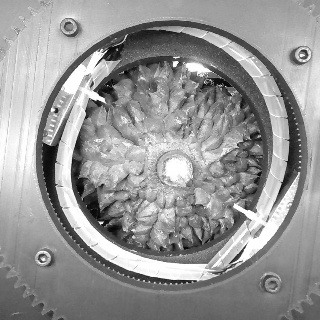base: (146, 141, 197, 185)
end: (162, 156, 193, 188)
